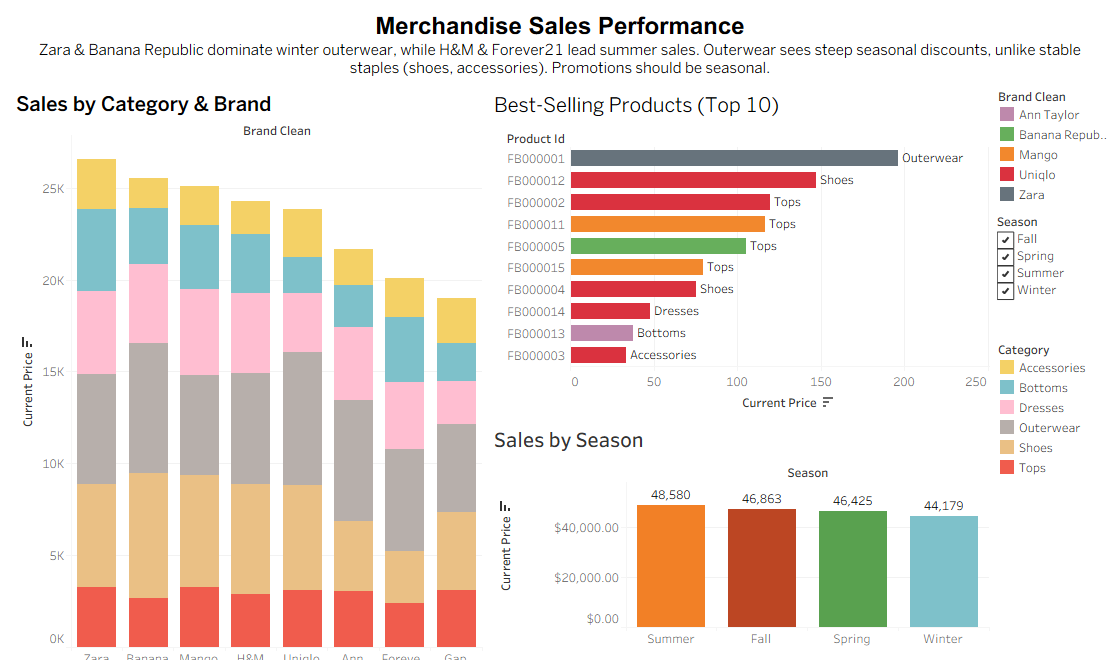

This screenshot's page, from the dashboard's own definition file:
{"tool":"tableau","page":{"name":"Dashboard 1","canvas":[1000,1000],"units":"permille","ordinal":0},"visuals":[{"type":"title","box":[7.1,12.1,985.7,112.1]},{"type":"worksheet","title":"Sheet 2","mark":"Automatic","rows":["current_price"],"cols":["brand_clean"],"box":[7.1,124.2,426.7,863.6]},{"type":"worksheet","title":"Sheet 3","mark":"Automatic","rows":["product_id"],"cols":["current_price"],"box":[433.8,124.2,452.8,504.9]},{"type":"legend","title":"Sheet 3","param":"[federated.1qwkjmf10en2zl1bg35vl1v1s3n4].[none:brand_clean:nk]","box":[886.6,124.2,106.2,190.9]},{"type":"filter","title":"Sheet 2","param":"[federated.1qwkjmf10en2zl1bg35vl1v1s3n4].[none:season:nk]","box":[886.6,315.2,106.2,192.4]},{"type":"legend","title":"Sheet 2","param":"[federated.1qwkjmf10en2zl1bg35vl1v1s3n4].[none:category:nk]","box":[886.6,507.6,106.2,221.2]},{"type":"worksheet","title":"Sheet 1","mark":"Automatic","rows":["current_price"],"cols":["season"],"box":[433.8,629.1,452.8,358.8]}]}

Visuals, with their boxes on the dashboard's canvas, which has no fixed pixel size, in thousandths of its width and height (x1, y1, x2, y2). These are canvas units, not pixel positions in the 1120x660 screenshot, which may show the page scaled, cropped or inside an application window:
title: (left=7, top=12, right=993, bottom=124)
"Sheet 2" worksheet: (left=7, top=124, right=434, bottom=988)
"Sheet 3" worksheet: (left=434, top=124, right=887, bottom=629)
"Sheet 3" legend: (left=887, top=124, right=993, bottom=315)
"Sheet 2" filter: (left=887, top=315, right=993, bottom=508)
"Sheet 2" legend: (left=887, top=508, right=993, bottom=729)
"Sheet 1" worksheet: (left=434, top=629, right=887, bottom=988)
